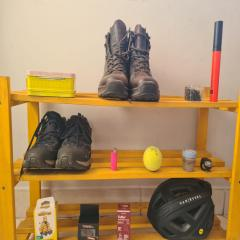bola: (142, 144, 163, 172)
bomba: (208, 18, 223, 104)
bota1: (98, 17, 161, 104)
bota2: (24, 110, 92, 172)
capacete: (146, 177, 216, 240)
cx-bike: (75, 200, 101, 240)
cx-ferro: (116, 200, 131, 240)
cx-magali: (24, 68, 77, 100)
cx-minions: (32, 195, 59, 240)
isqueiro: (110, 147, 118, 173)
luz: (200, 155, 213, 174)
pote: (182, 147, 197, 172)
